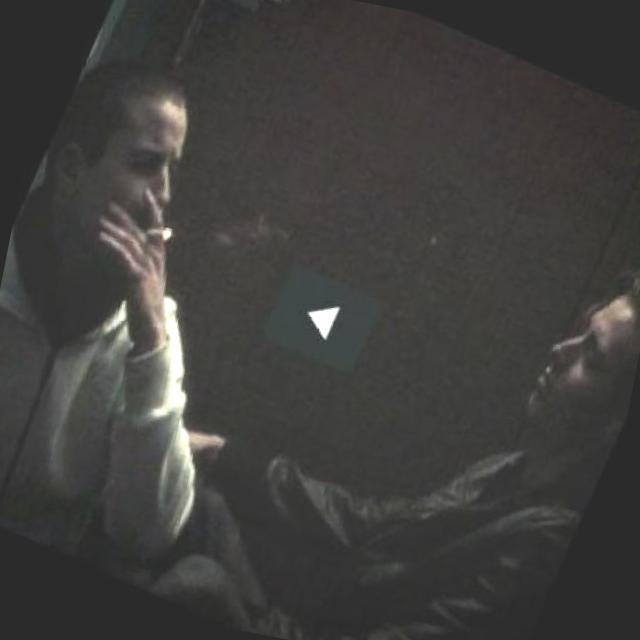cigarette: (140, 218, 175, 249)
